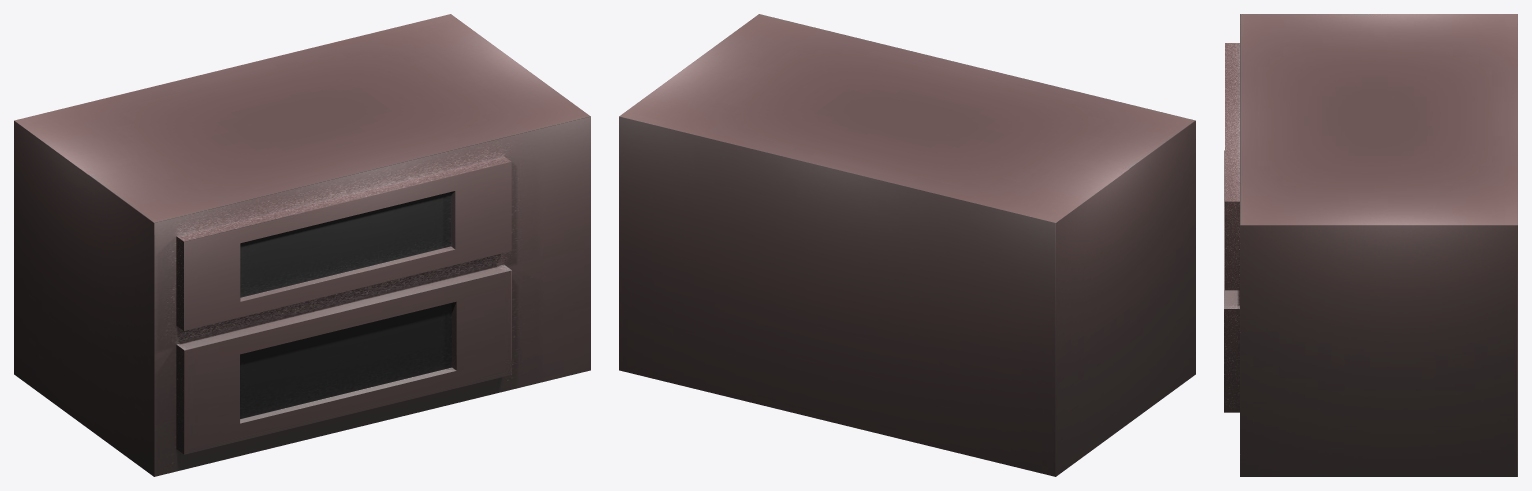
The model's file is oven6.dae.
3 renders of one model, left to right at view 1: azimuth 30°, elevation 25°; view 2: azimuth 150°, elevation 25°; view 3: azimuth 270°, elevation 25°, orthographic.
Parts seen in each view (by area): view 1: Cube; view 2: Cube; view 3: Cube.
Part boxes in pixels (<box>): Cube: <box>14,14,590,476</box>; Cube: <box>619,14,1195,476</box>; Cube: <box>1224,14,1517,476</box>.
Bounding box in the file's own units: 3.6 × 2.11 × 2.
1 material, 1 textured.
